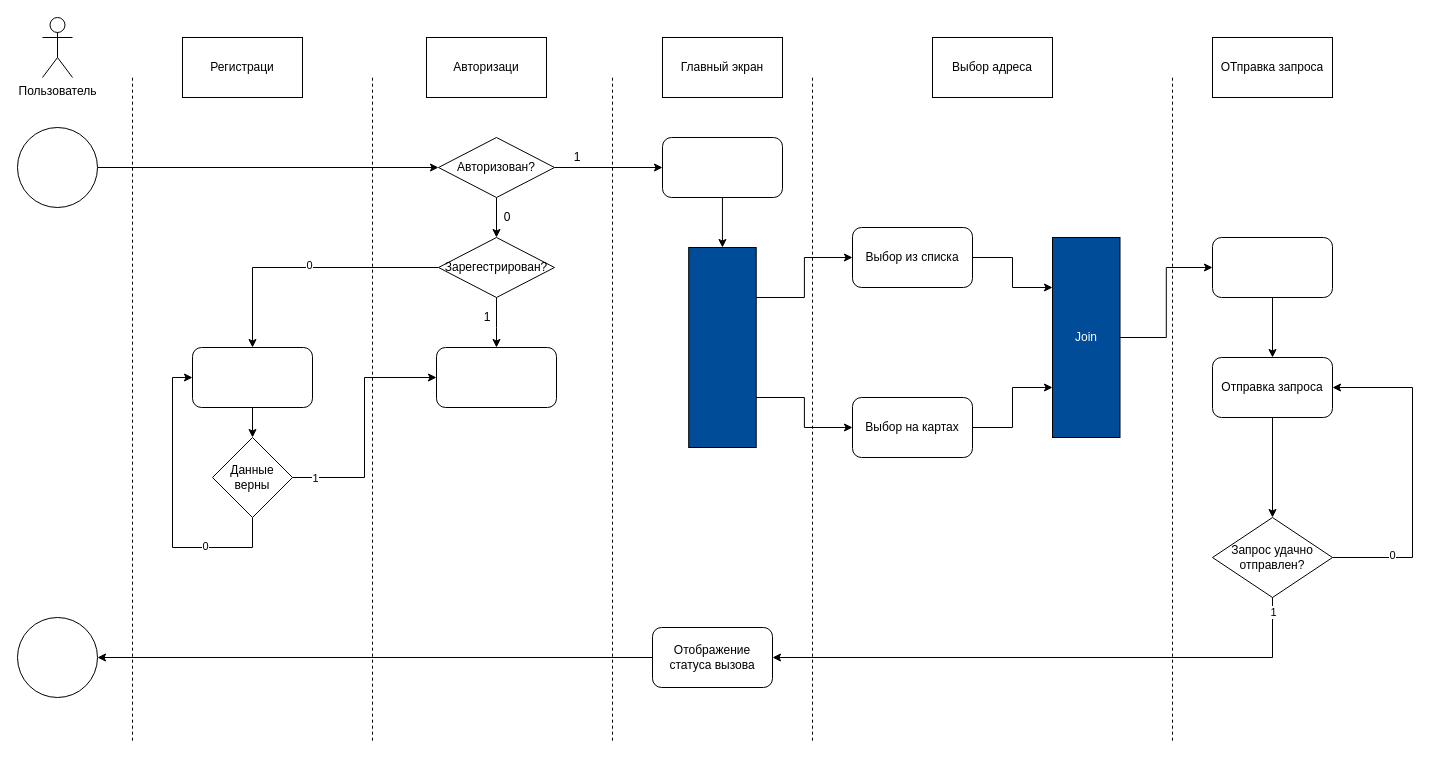
Some shapes in this 1438 by 760 pixel diagram are drawn without their labels. The shapes that lost their labels are listed below. From the top down, each one's centre as x and y in pixels, then its label:
At pixel 57 167: "Открыл приложение".
At pixel 722 167: "Нажатие на экстренную кнопку".
At pixel 1272 267: "Формирование запроса".
At pixel 722 347: "Fork".
At pixel 252 377: "Ввод данных о пользователе".
At pixel 496 377: "Ввод логина и пароля".
At pixel 57 657: "Закрыл приложени".
